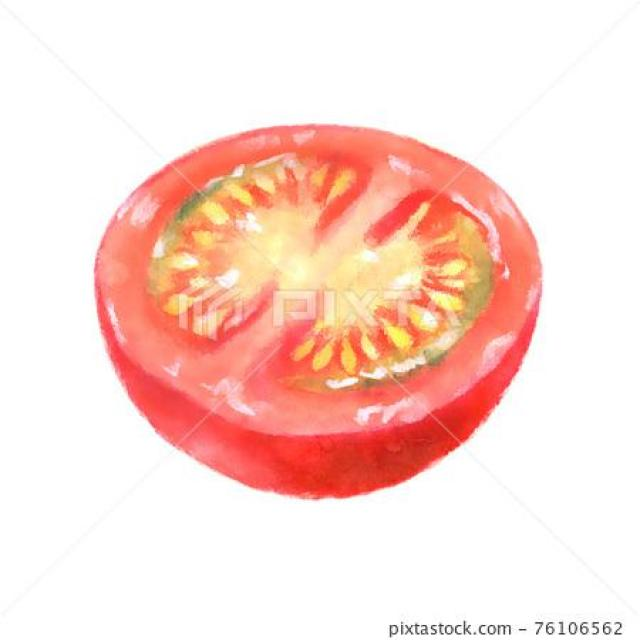Tomato: (85, 117, 547, 502)
